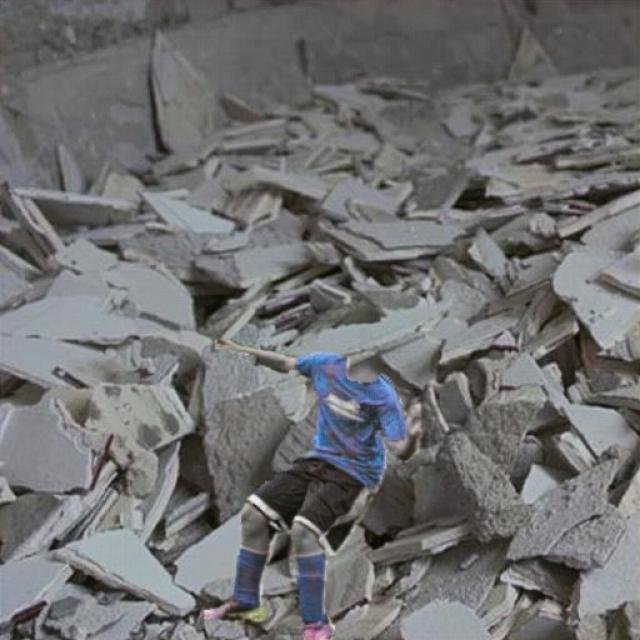Person in Rubble: (204, 340, 420, 639)
